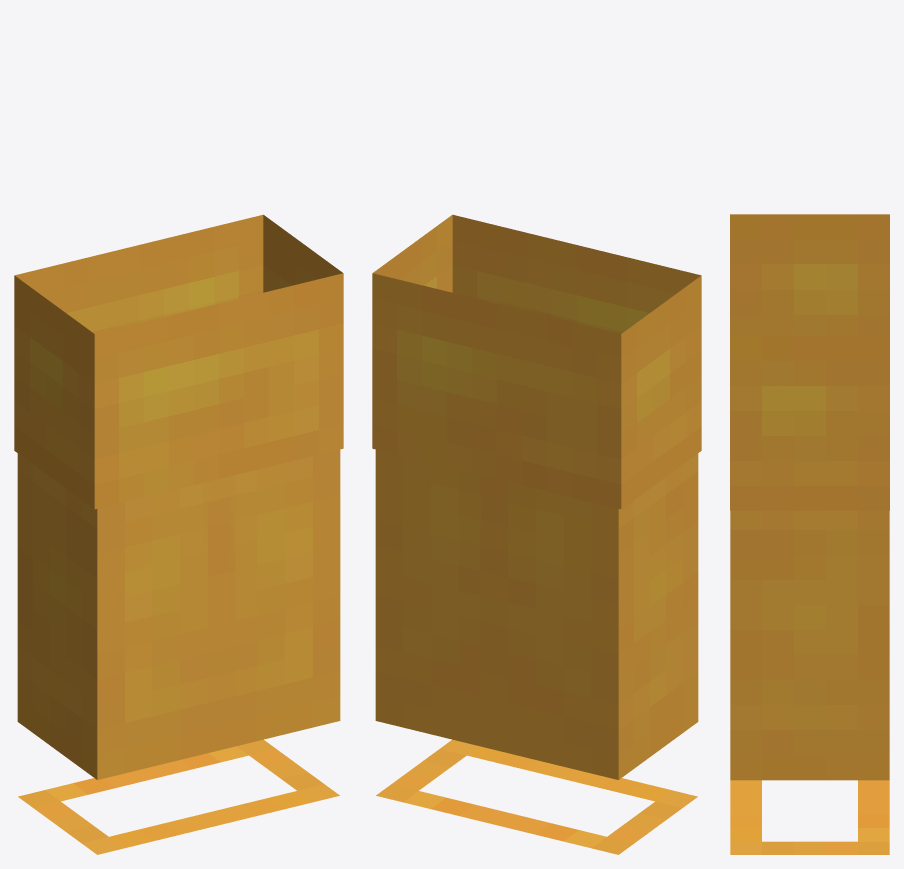
File: gold legging.glb
3 renders of one model, left to right at view 1: azimuth 30°, elevation 25°; view 2: azimuth 150°, elevation 25°; view 3: azimuth 270°, elevation 25°, orthographic.
Visible parts, largest first — view 1: belt, leggings_left, leggings_right; view 2: belt, leggings_left, leggings_right; view 3: leggings_right, belt, leggings_left.
Boxes of the visible parts, x1,y1,x2,y2 form: belt: (14,214,343,509); leggings_left: (17,453,235,854); leggings_right: (138,449,340,829); belt: (372,214,701,509); leggings_left: (480,453,698,854); leggings_right: (375,449,575,829); leggings_right: (730,510,889,854); belt: (730,214,889,510); leggings_left: (730,780,889,803).
Size of the model in its own units: 0.5638 by 1.56 by 0.3137.
1 material, 1 textured.
